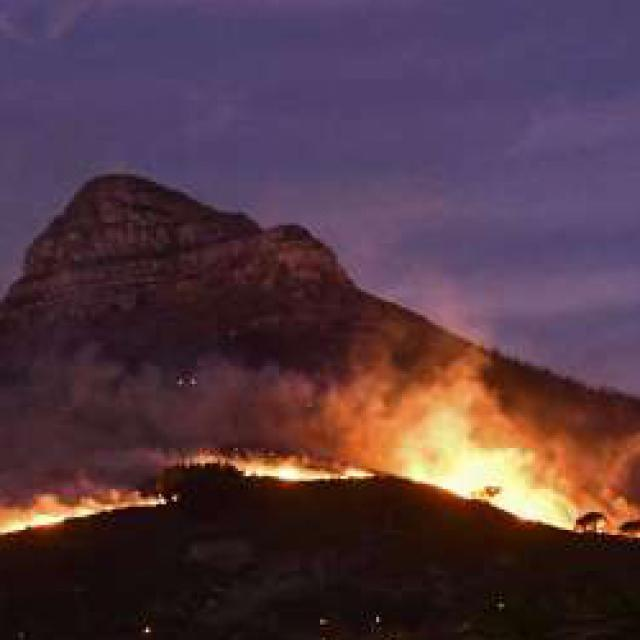Fire: (381, 402, 640, 572), (165, 406, 388, 496), (0, 481, 204, 552)
Smoke: (312, 228, 620, 467)
